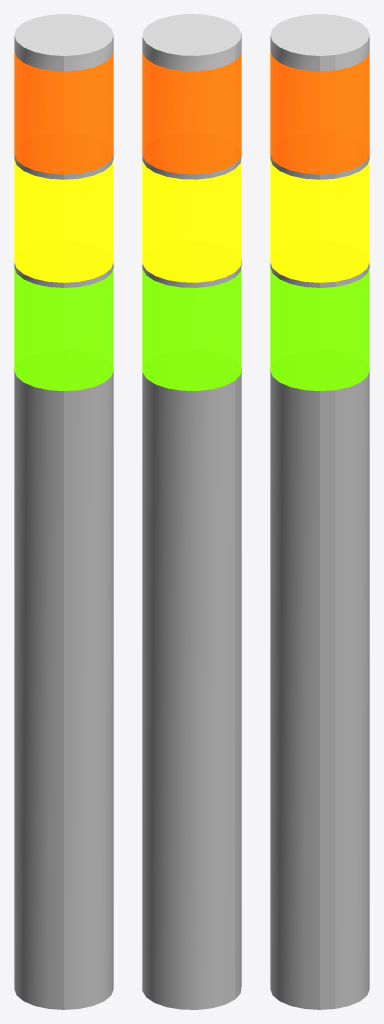
The model's file is tower-lamp.glb.
3 views of the same model, side by side, from view 1: azimuth 90°, elevation 25°; view 2: azimuth 150°, elevation 25°; view 3: azimuth 270°, elevation 25° (orthographic).
Parts seen in each view (by area): view 1: Body__go293__mesh0, Yellow__go1167__mesh0, Green__go220__mesh0, Red__go214__mesh0, Cap__go1346__mesh0, Slider-2__go448__mesh0, Slider-1__go367__mesh0; view 2: Body__go293__mesh0, Yellow__go1167__mesh0, Green__go220__mesh0, Red__go214__mesh0, Cap__go1346__mesh0, Slider-1__go367__mesh0, Slider-2__go448__mesh0; view 3: Body__go293__mesh0, Yellow__go1167__mesh0, Green__go220__mesh0, Red__go214__mesh0, Cap__go1346__mesh0, Slider-2__go448__mesh0, Slider-1__go367__mesh0.
Part boxes in pixels (<box>): Body__go293__mesh0: <box>14,371,113,1009</box>; Yellow__go1167__mesh0: <box>14,159,113,282</box>; Green__go220__mesh0: <box>14,268,113,390</box>; Red__go214__mesh0: <box>14,51,113,174</box>; Cap__go1346__mesh0: <box>14,14,113,71</box>; Slider-2__go448__mesh0: <box>14,154,113,179</box>; Slider-1__go367__mesh0: <box>14,263,113,287</box>; Body__go293__mesh0: <box>142,368,241,1009</box>; Yellow__go1167__mesh0: <box>142,157,241,282</box>; Green__go220__mesh0: <box>142,265,241,390</box>; Red__go214__mesh0: <box>142,48,241,174</box>; Cap__go1346__mesh0: <box>142,14,241,71</box>; Slider-1__go367__mesh0: <box>142,260,241,287</box>; Slider-2__go448__mesh0: <box>142,151,241,179</box>; Body__go293__mesh0: <box>270,371,369,1009</box>; Yellow__go1167__mesh0: <box>270,159,369,282</box>; Green__go220__mesh0: <box>270,268,369,390</box>; Red__go214__mesh0: <box>270,51,369,174</box>; Cap__go1346__mesh0: <box>270,14,369,71</box>; Slider-2__go448__mesh0: <box>270,154,369,179</box>; Slider-1__go367__mesh0: <box>270,263,369,287</box>.
Bounding box in the file's own units: 0.035 × 0.37 × 0.035.
